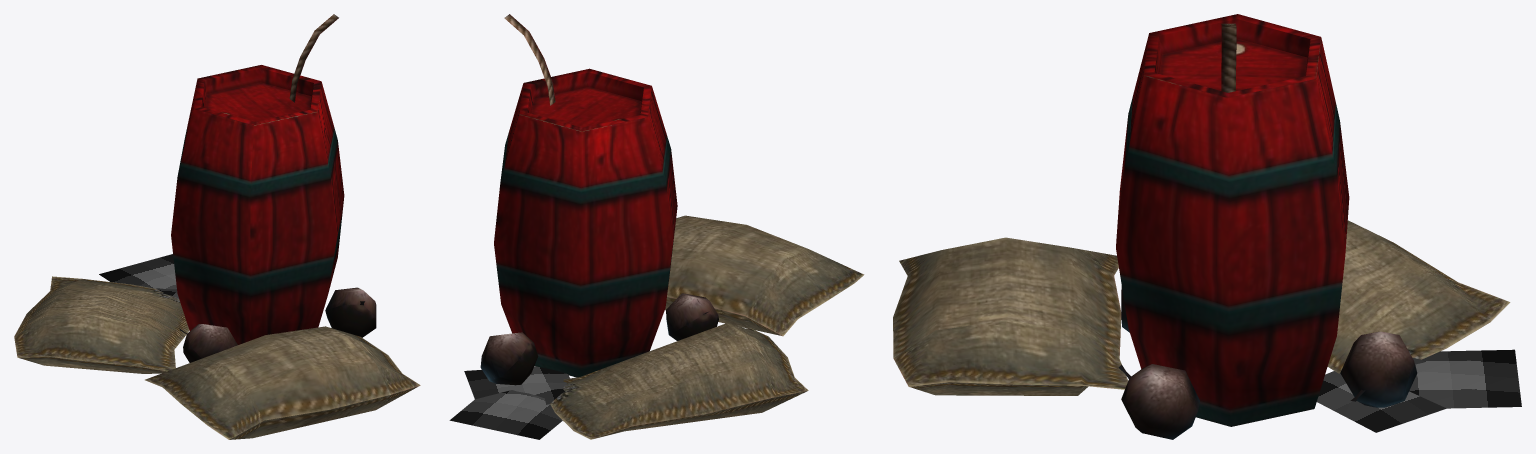
Rendered from pir_m_prp_wpn_ammoPile.fbx.
3 renders of one model, left to right at view 1: azimuth 30°, elevation 25°; view 2: azimuth 150°, elevation 25°; view 3: azimuth 270°, elevation 25°, orthographic. The views are drawn at different scales.
Parts seen in each view (by area): view 1: barrel.001, sack, sack_torn, grenade_2, gunpowderSpill, grenade_3, fuse_over; view 2: barrel.001, sack_torn, sack, gunpowderSpill, grenade_1, grenade_3, fuse_over; view 3: barrel.001, sack, sack_torn, gunpowderSpill, grenade_2, grenade_1, fuse_over.
Boxes of the visible parts, <box> form: barrel.001: <box>171,65,344,344</box>; sack: <box>145,326,420,439</box>; sack_torn: <box>14,276,189,373</box>; grenade_2: <box>325,287,376,337</box>; gunpowderSpill: <box>99,254,178,298</box>; grenade_3: <box>179,324,237,362</box>; fuse_over: <box>289,14,338,102</box>; barrel.001: <box>494,68,677,377</box>; sack_torn: <box>550,322,808,439</box>; sack: <box>665,215,864,336</box>; gunpowderSpill: <box>449,366,569,439</box>; grenade_1: <box>480,332,538,385</box>; grenade_3: <box>666,293,718,340</box>; fuse_over: <box>504,14,555,105</box>; barrel.001: <box>1116,14,1349,426</box>; sack: <box>893,237,1127,395</box>; sack_torn: <box>1327,220,1510,373</box>; gunpowderSpill: <box>1317,349,1521,432</box>; grenade_2: <box>1118,364,1199,439</box>; grenade_1: <box>1340,331,1417,407</box>; fuse_over: <box>1221,23,1236,92</box>.
Size of the model in its own units: 379 by 342 by 464.
2 materials, 2 textured.
